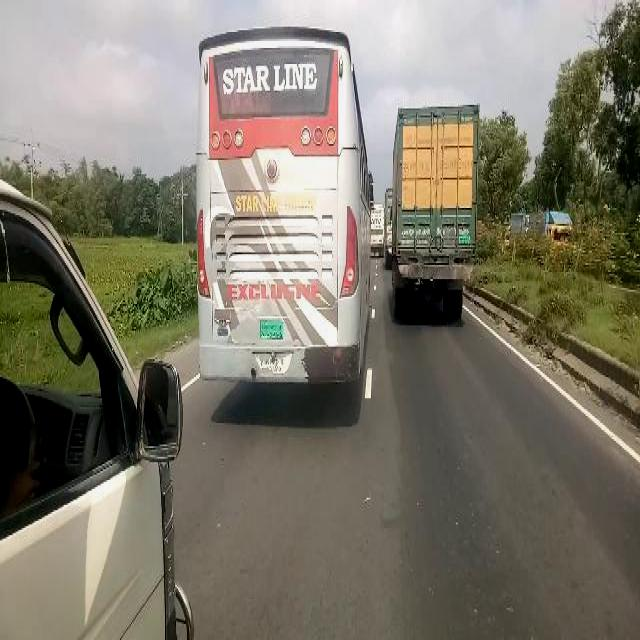BUS: (195, 28, 372, 412)
TRUCK: (395, 104, 476, 322)
